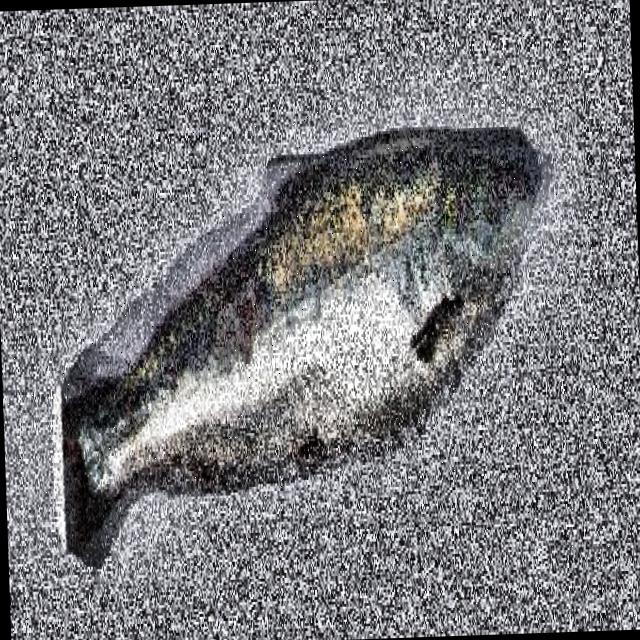mild_red: (62, 129, 540, 512)
